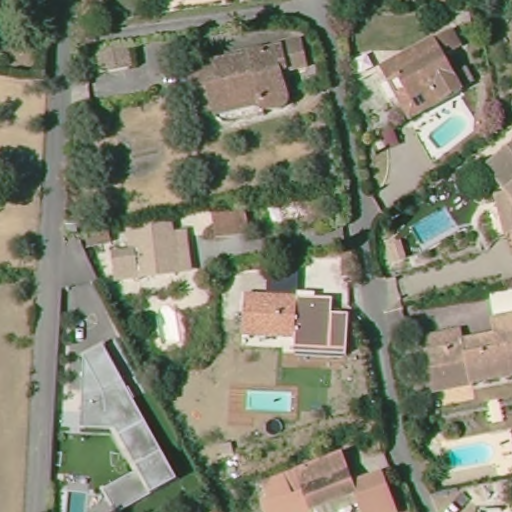pool: (402, 207, 460, 250), (432, 438, 500, 471), (426, 108, 471, 151), (240, 385, 297, 418), (60, 479, 97, 507)
